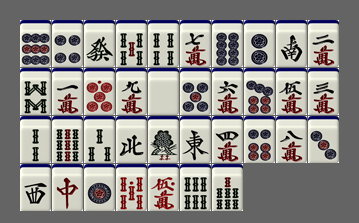0m: (148, 164, 179, 211)
0p: (84, 68, 115, 115)
0s: (116, 164, 147, 211)
1m: (52, 68, 83, 115)
1p: (84, 164, 115, 211)
1s: (148, 116, 179, 163)
1z: (180, 116, 211, 163)
2m: (308, 20, 339, 67)
2p: (244, 20, 275, 67)
2s: (20, 116, 51, 163)
2z: (276, 20, 307, 67)
3m: (308, 68, 339, 115)
3p: (308, 116, 339, 163)
3s: (84, 116, 115, 163)
3z: (20, 164, 51, 211)
4m: (212, 116, 243, 163)
4p: (52, 20, 83, 67)
4s: (148, 20, 179, 67)
4z: (116, 116, 147, 163)
5m: (276, 68, 307, 115)
5p: (180, 68, 211, 115)
5s: (116, 20, 147, 67)
5z: (148, 68, 179, 115)
6m: (212, 68, 243, 115)
6p: (244, 116, 275, 163)
6s: (180, 164, 211, 211)
6z: (84, 20, 115, 67)
7m: (180, 20, 211, 67)
7p: (244, 68, 275, 115)
7s: (212, 164, 243, 211)
7z: (52, 164, 83, 211)
8m: (276, 116, 307, 163)
8p: (212, 20, 243, 67)
8s: (20, 68, 51, 115)
9m: (116, 68, 147, 115)
9p: (20, 20, 51, 67)
9s: (52, 116, 83, 163)
